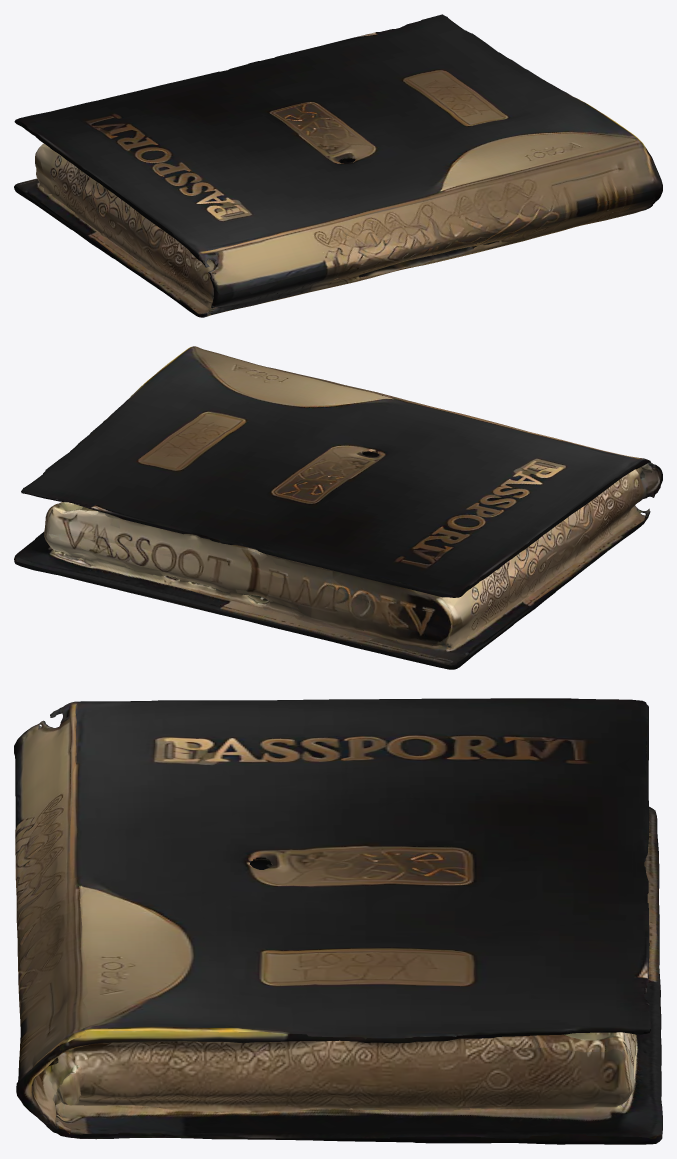
The model's file is PassPort-transformed.glb.
3 views of the same model, one above another, from view 1: azimuth 30°, elevation 25°; view 2: azimuth 150°, elevation 25°; view 3: azimuth 270°, elevation 25° (orthographic). The views are drawn at different scales.
Parts seen in each view (by area): view 1: Object_4; view 2: Object_4; view 3: Object_4.
Part boxes in pixels (x1,y1,x2,y2): Object_4: [14, 14, 662, 317]; Object_4: [14, 346, 662, 669]; Object_4: [14, 698, 662, 1144].
Size of the model in its own units: 0.4739 by 0.0803 by 0.3792.
1 material, 1 textured.
